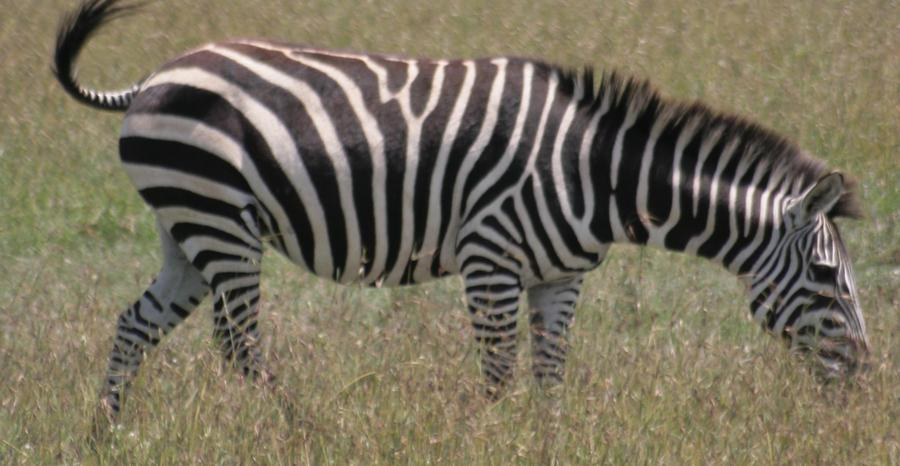zebra_plains: (139, 41, 596, 278)
